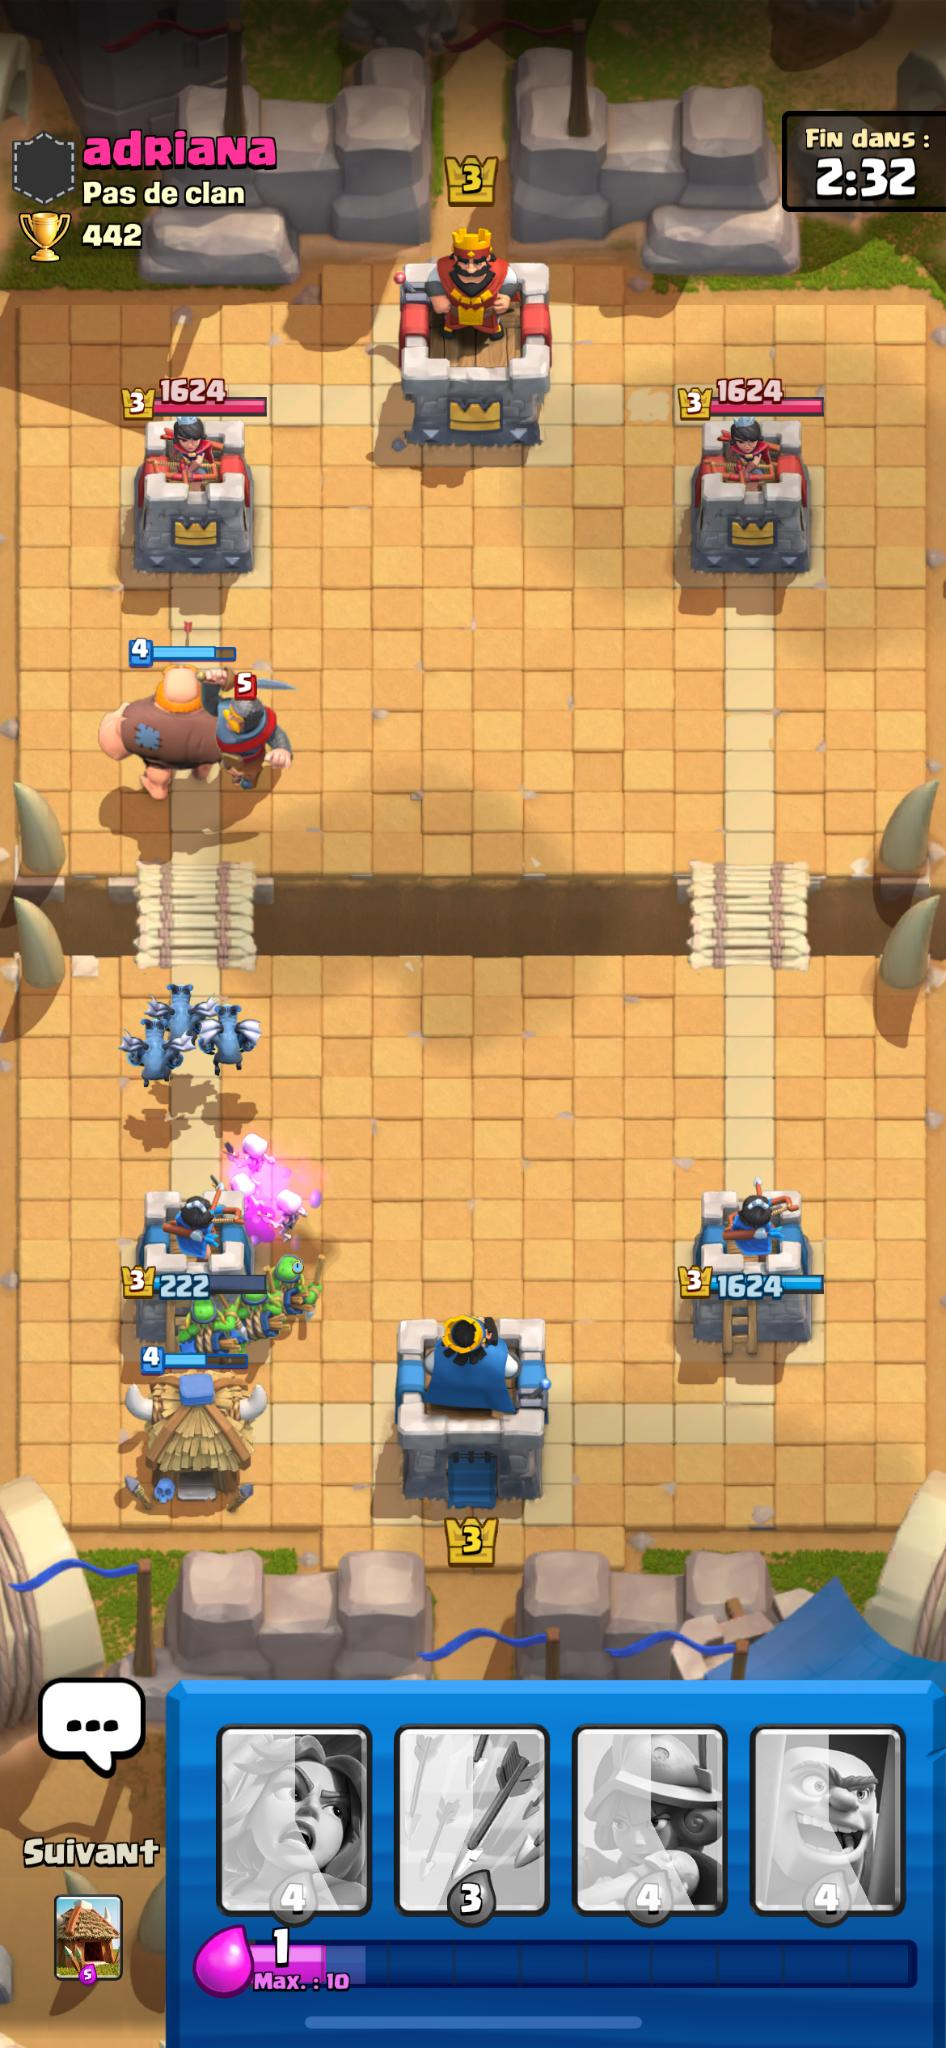chevalier: (208, 682, 293, 799)
gargouille: (153, 969, 209, 1055), (124, 1014, 188, 1083), (204, 993, 250, 1078)
geant: (93, 667, 256, 797)
gobelin_lances: (174, 1290, 233, 1358), (261, 1254, 318, 1317), (227, 1287, 282, 1344)
squelette: (223, 1117, 282, 1189), (217, 1165, 268, 1223), (268, 1181, 307, 1237)
